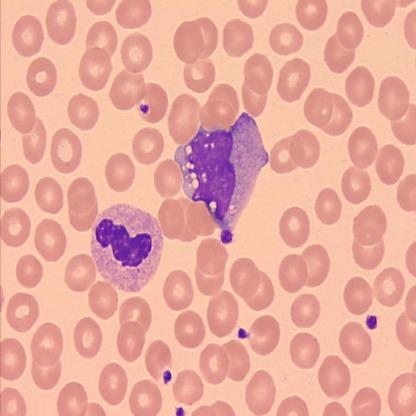Monocyte: (173, 107, 270, 234)
